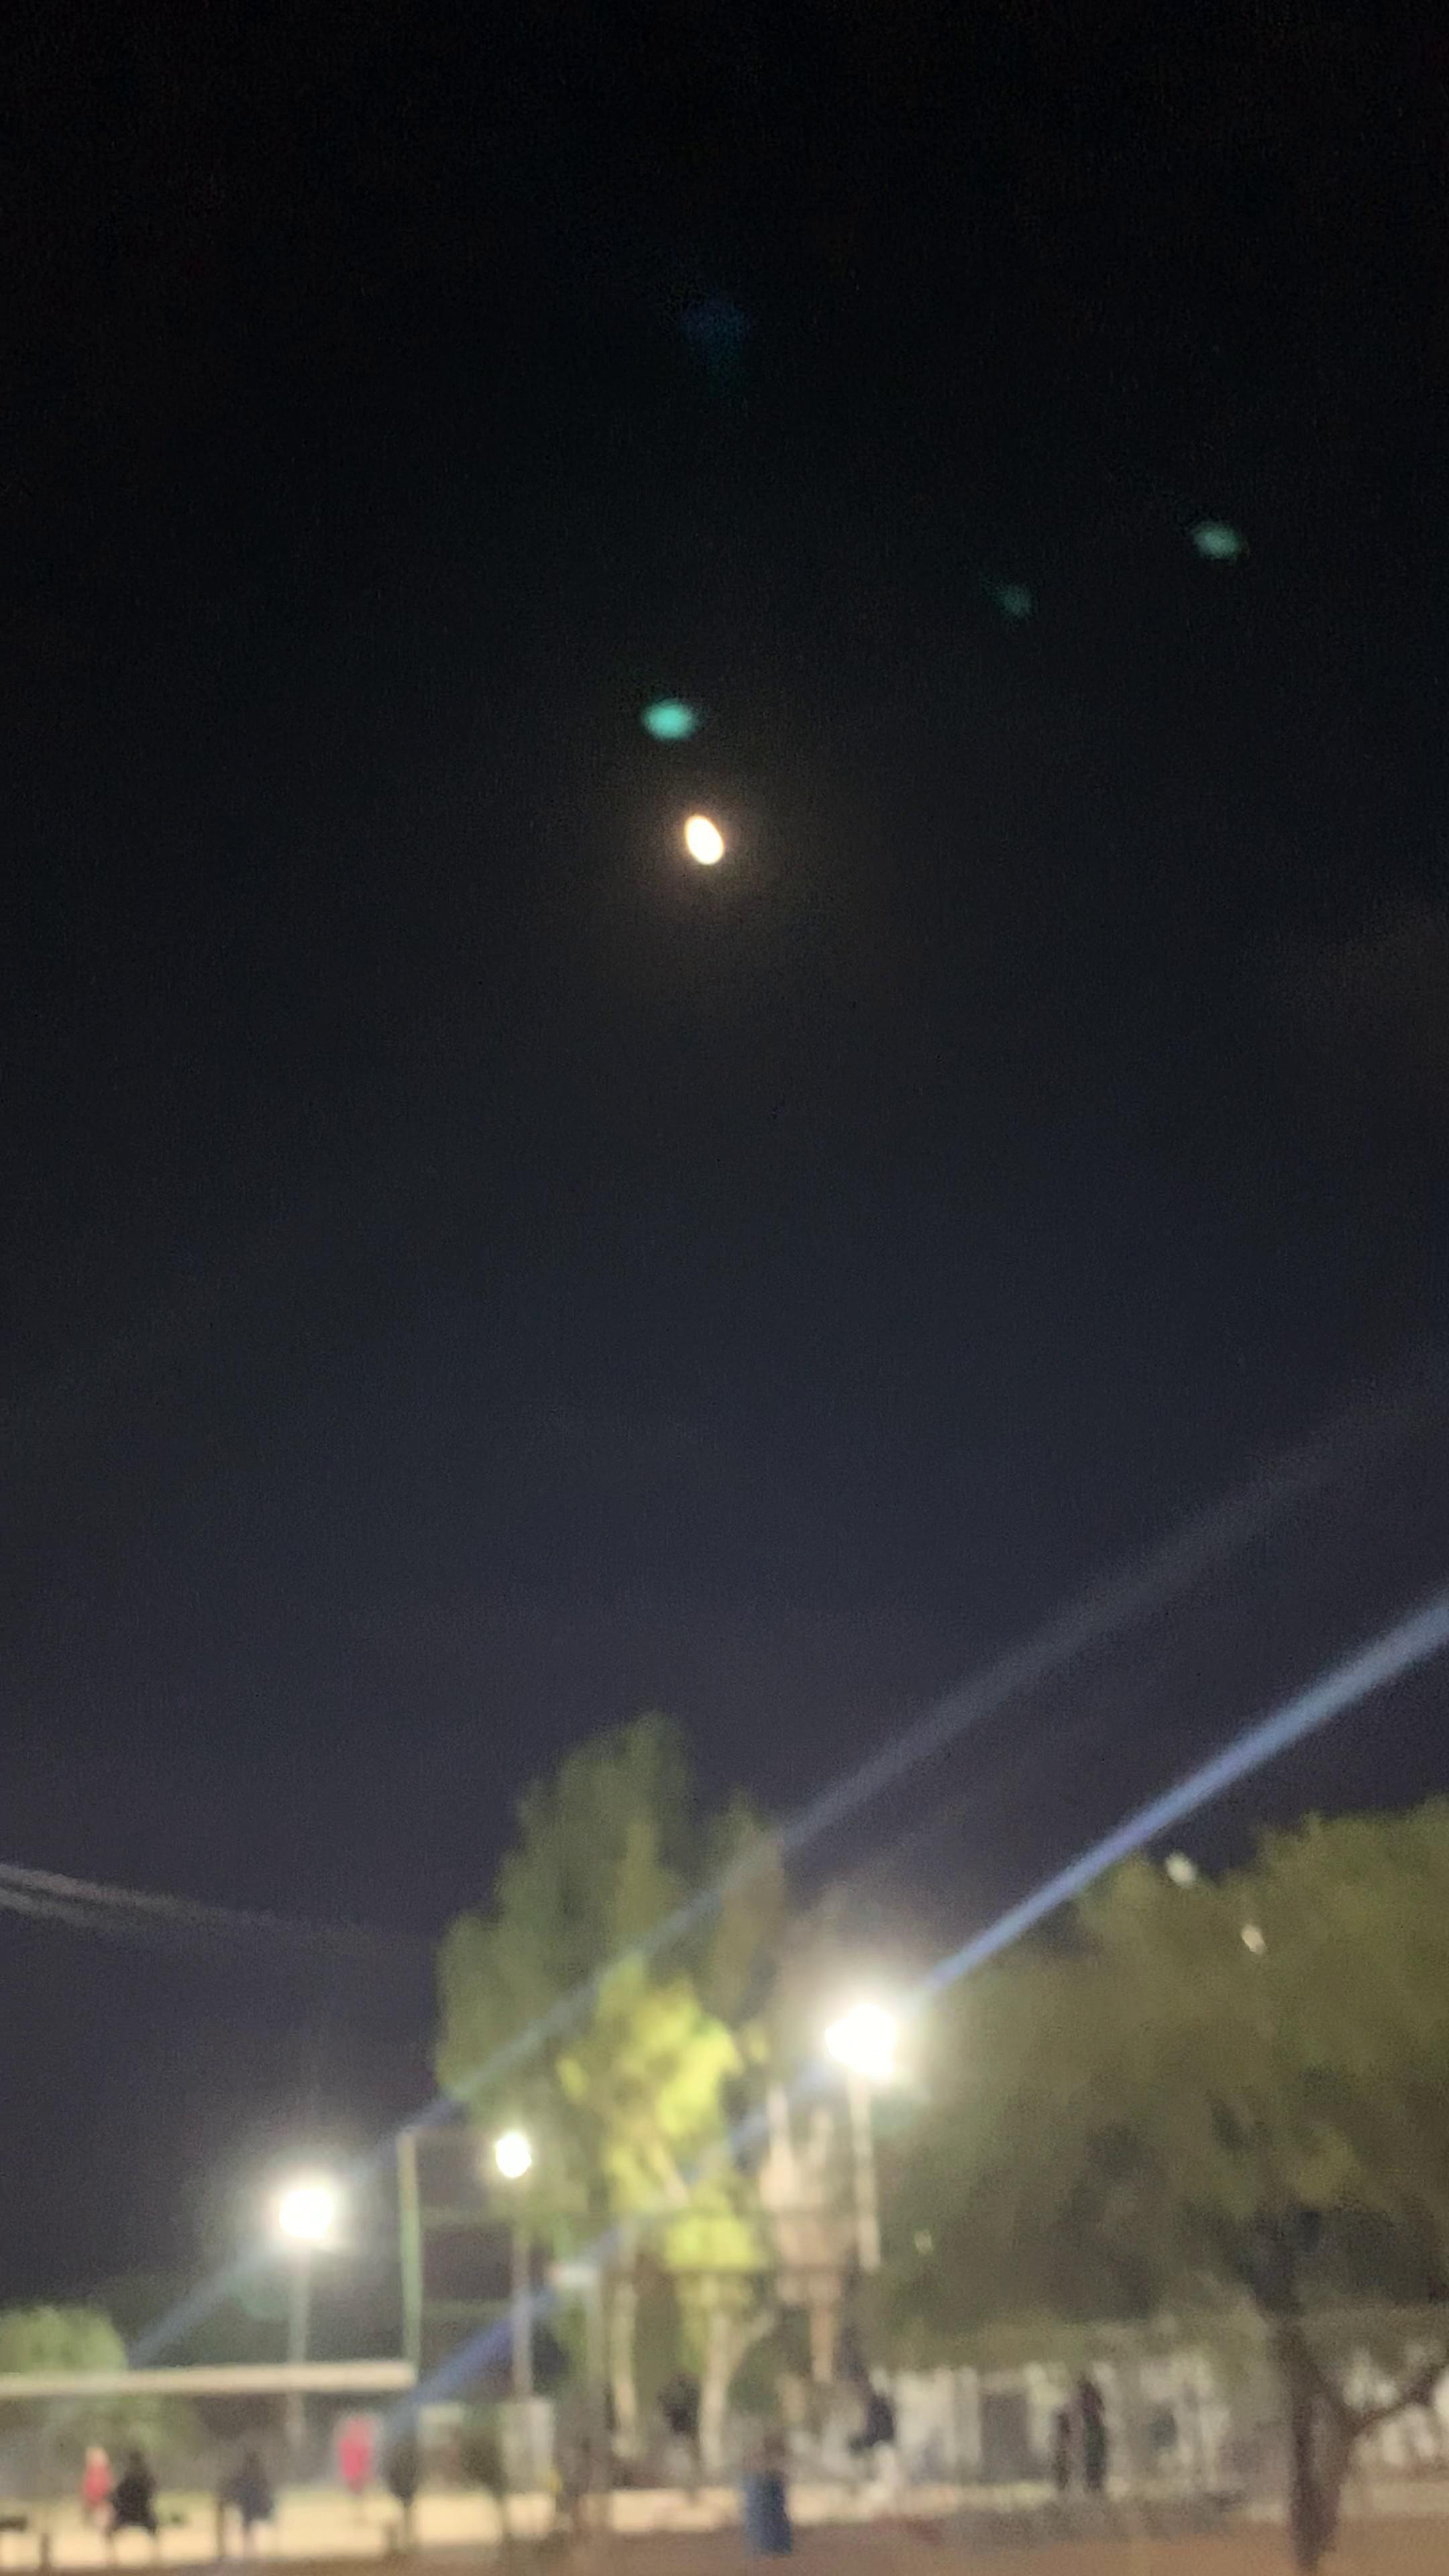moon: (612, 778, 771, 911)
